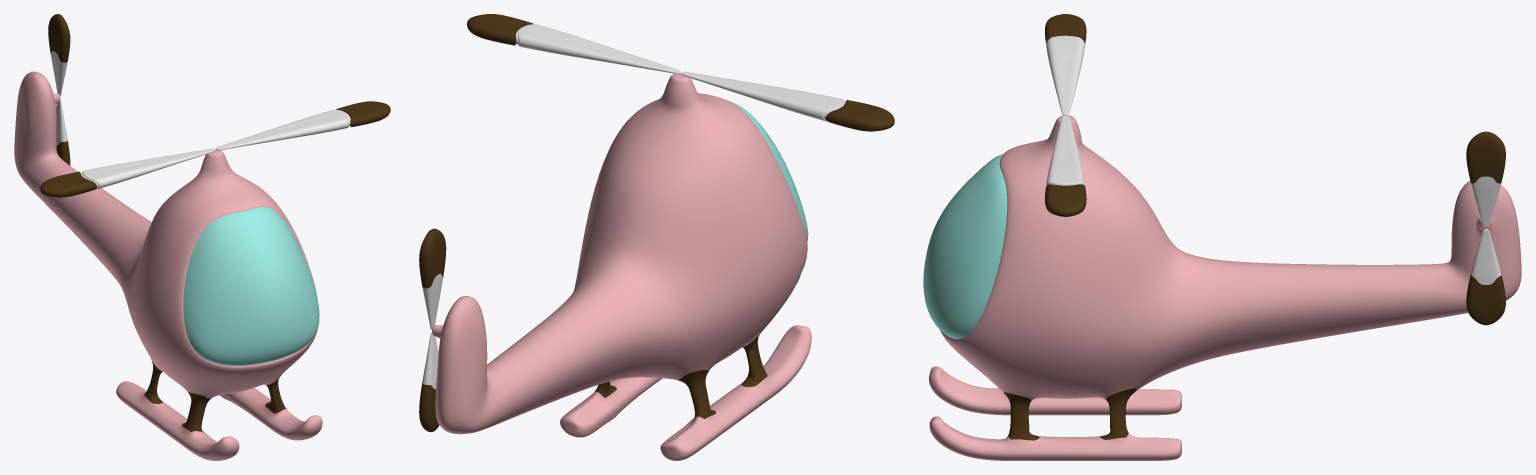
File: MainModel.fbx
The picture shows the model from 3 angles, left to right: view 1: azimuth 30°, elevation 25°; view 2: azimuth 150°, elevation 25°; view 3: azimuth 270°, elevation 25°; orthographic projection. The views are drawn at different scales.
Parts seen in each view (by area): view 1: Cube, Cube.001, Cube.002; view 2: Cube, Cube.001, Cube.002; view 3: Cube, Cube.001, Cube.002.
Part boxes in pixels (bbox=[...]): Cube: bbox=[14, 71, 322, 460]; Cube.001: bbox=[40, 101, 390, 197]; Cube.002: bbox=[48, 14, 70, 165]; Cube: bbox=[432, 73, 811, 460]; Cube.001: bbox=[467, 14, 894, 131]; Cube.002: bbox=[419, 228, 446, 432]; Cube: bbox=[923, 115, 1521, 460]; Cube.001: bbox=[1045, 14, 1086, 216]; Cube.002: bbox=[1466, 131, 1505, 325].
Size of the model in its own units: 379 by 291 by 483.
